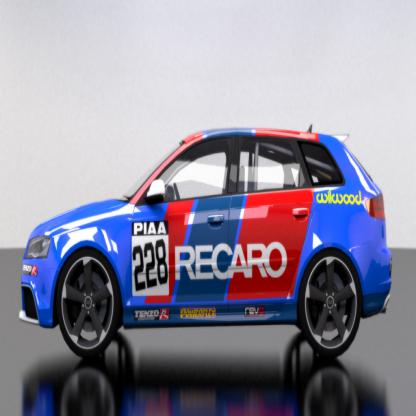Car: (19, 124, 392, 359)
